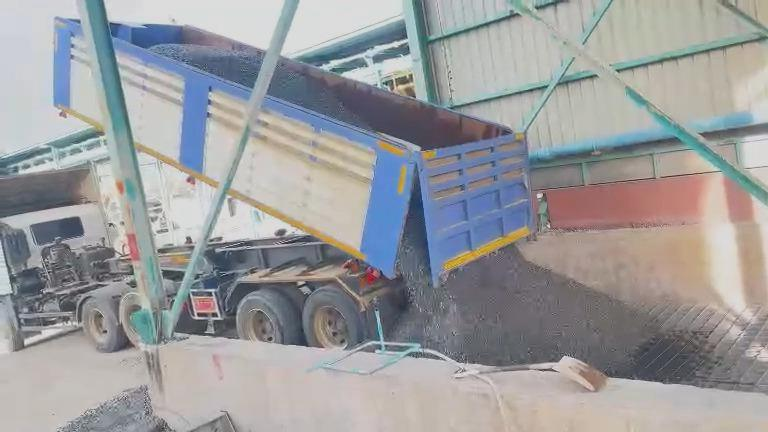gravel: (390, 200, 656, 375), (269, 62, 372, 129), (58, 386, 169, 431), (150, 44, 263, 87)
